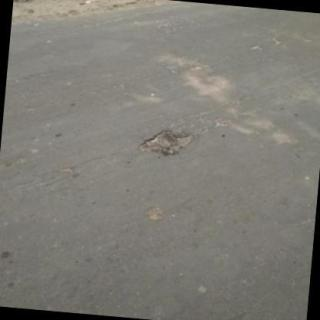pothole: (138, 130, 194, 156)
